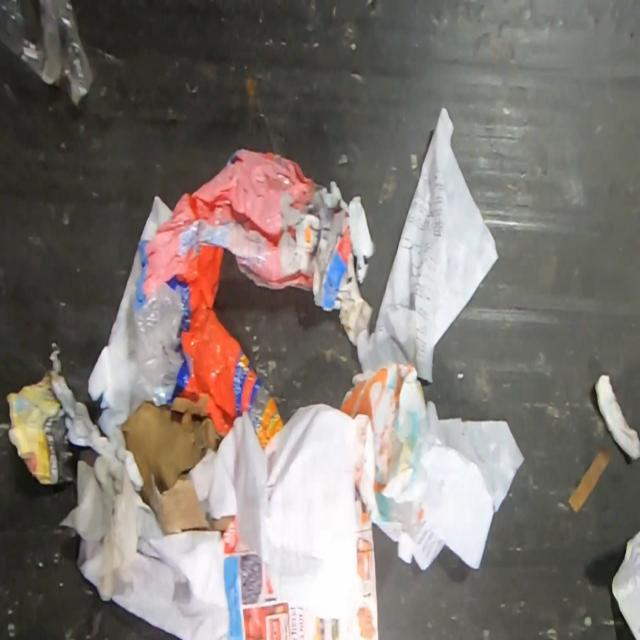cardboard: (120, 393, 236, 539)
soft_plastic: (130, 149, 315, 450)
